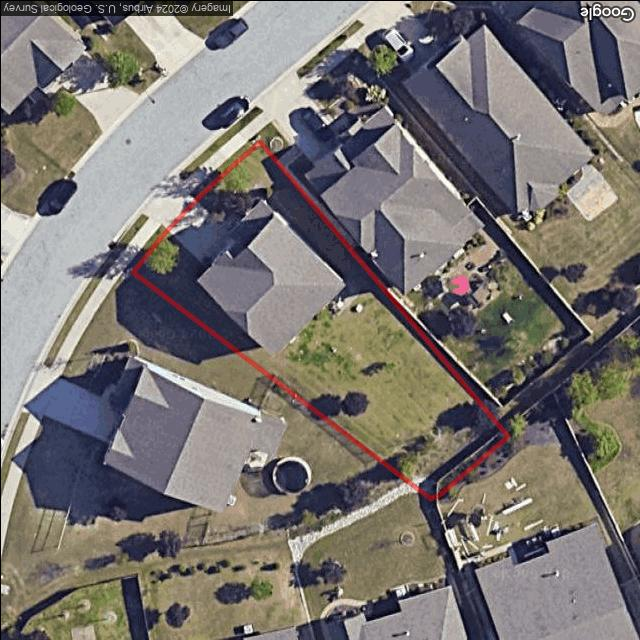Driveway: (168, 198, 235, 267)
Extra-Driveway: (141, 174, 196, 231)
Extra-Lawn: (189, 135, 259, 198), (177, 122, 242, 178), (126, 224, 167, 272), (106, 215, 147, 260)
Extra-Sidewalk: (182, 124, 254, 192), (113, 218, 159, 269)
House: (195, 198, 345, 355)
Lawn: (132, 140, 507, 498)
Other: (387, 402, 506, 498), (197, 183, 261, 230)
